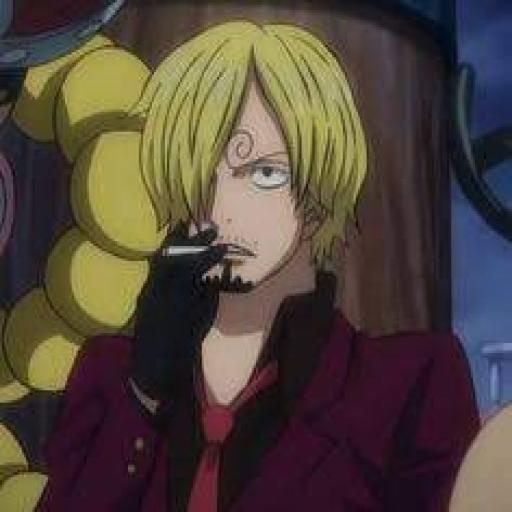sanji: (128, 2, 475, 512)
